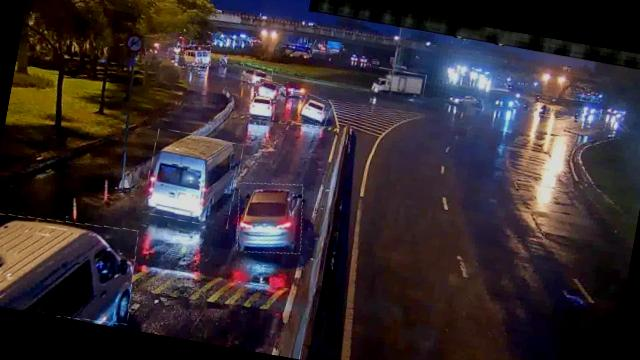Bus: (0, 206, 141, 327), (142, 128, 243, 228), (184, 43, 212, 68)
Car: (230, 176, 308, 260), (298, 94, 332, 126), (240, 63, 274, 86), (254, 76, 284, 98)
Truck: (376, 67, 426, 98)
